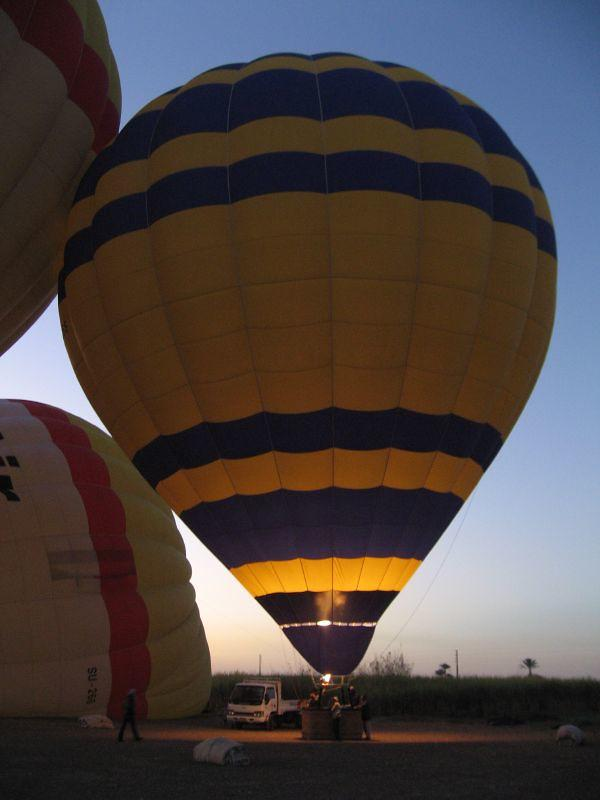balloon: (56, 50, 559, 683), (1, 397, 213, 724), (1, 1, 123, 358)
